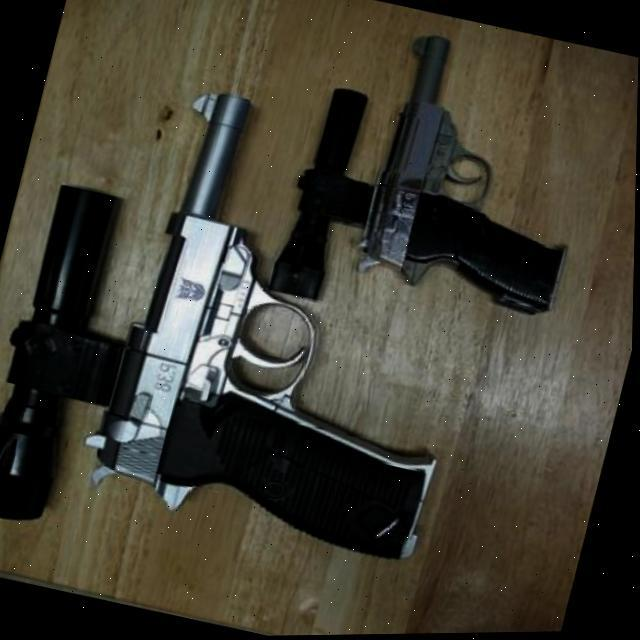gun: (72, 73, 520, 565), (346, 25, 611, 324)
